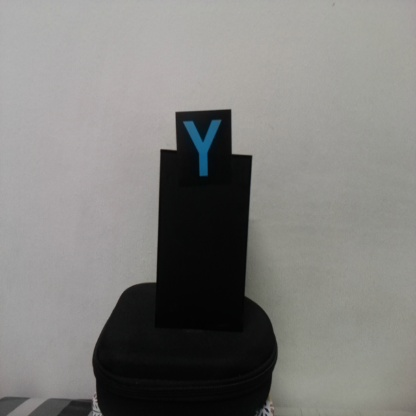id_14: (175, 111, 232, 185)
